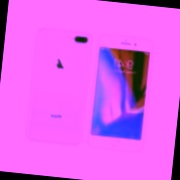iphone: (92, 33, 150, 148), (31, 33, 88, 148)
